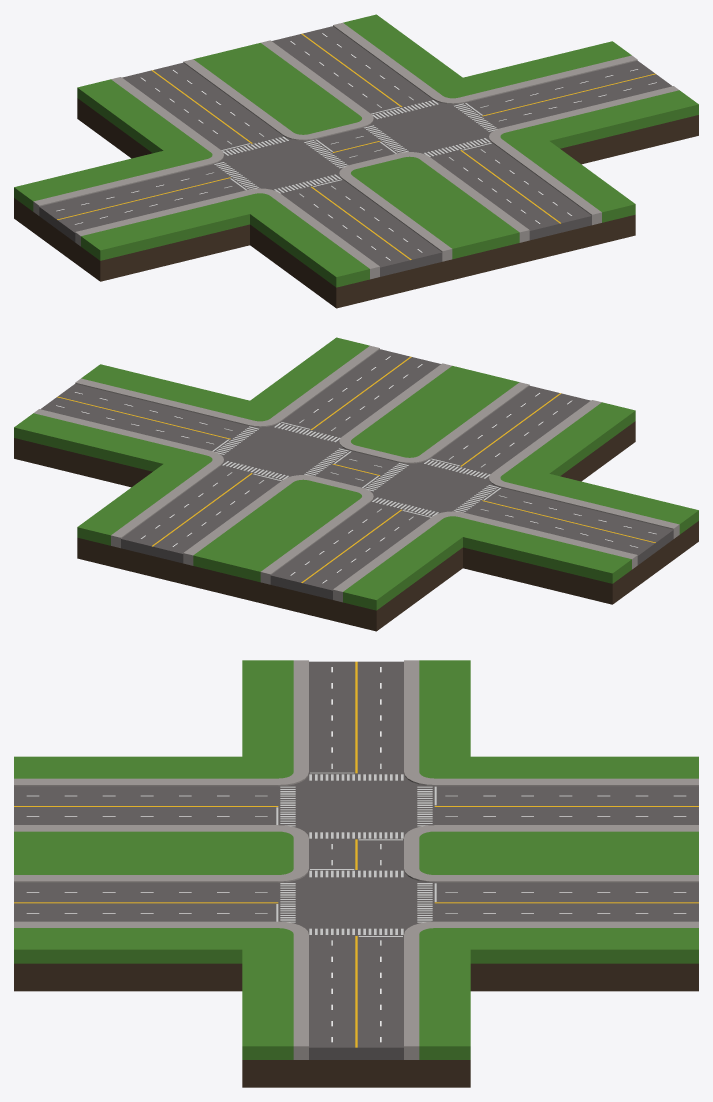
The picture shows the model from 3 angles, top to bottom: view 1: azimuth 30°, elevation 25°; view 2: azimuth 150°, elevation 25°; view 3: azimuth 270°, elevation 25°; orthographic projection. The views are drawn at different scales.
Parts seen in each view (by area): view 1: tile-mainroad-straight.002, tile-mainroad-straight.001, tile-mainroad-straight.003, tile-mainroad-straight.005, tile-mainroad-straight, tile-mainroad-intersection, tile-mainroad-intersection.001, tile-mainroad-straight.004; view 2: tile-mainroad-straight.002, tile-mainroad-straight, tile-mainroad-straight.004, tile-mainroad-straight.005, tile-mainroad-straight.001, tile-mainroad-intersection, tile-mainroad-intersection.001, tile-mainroad-straight.003; view 3: tile-mainroad-straight.004, tile-mainroad-straight.003, tile-mainroad-straight.005, tile-mainroad-straight, tile-mainroad-straight.001, tile-mainroad-intersection, tile-mainroad-intersection.001, tile-mainroad-straight.002.
Part boxes in pixels (<box>): tile-mainroad-straight.002: <box>14,151,249,281</box>; tile-mainroad-straight.001: <box>250,177,485,308</box>; tile-mainroad-straight.003: <box>400,141,635,271</box>; tile-mainroad-straight.005: <box>463,41,698,164</box>; tile-mainroad-straight: <box>77,51,312,158</box>; tile-mainroad-intersection: <box>164,114,399,213</box>; tile-mainroad-intersection.001: <box>313,77,548,177</box>; tile-mainroad-straight.004: <box>227,14,462,113</box>; tile-mainroad-straight.002: <box>463,474,698,604</box>; tile-mainroad-straight: <box>227,500,462,631</box>; tile-mainroad-straight.004: <box>77,464,312,594</box>; tile-mainroad-straight.005: <box>14,364,249,487</box>; tile-mainroad-straight.001: <box>400,374,635,481</box>; tile-mainroad-intersection: <box>313,437,548,536</box>; tile-mainroad-intersection.001: <box>164,400,399,500</box>; tile-mainroad-straight.003: <box>250,337,485,436</box>; tile-mainroad-straight.004: <box>470,853,698,991</box>; tile-mainroad-straight.003: <box>14,853,242,991</box>; tile-mainroad-straight.005: <box>242,949,470,1087</box>; tile-mainroad-straight: <box>470,756,698,853</box>; tile-mainroad-straight.001: <box>14,756,242,853</box>; tile-mainroad-intersection: <box>242,756,470,854</box>; tile-mainroad-intersection.001: <box>242,853,470,951</box>; tile-mainroad-straight.002: <box>242,660,470,758</box>.
Bounding box in the file's own units: 120 × 6 × 90.
